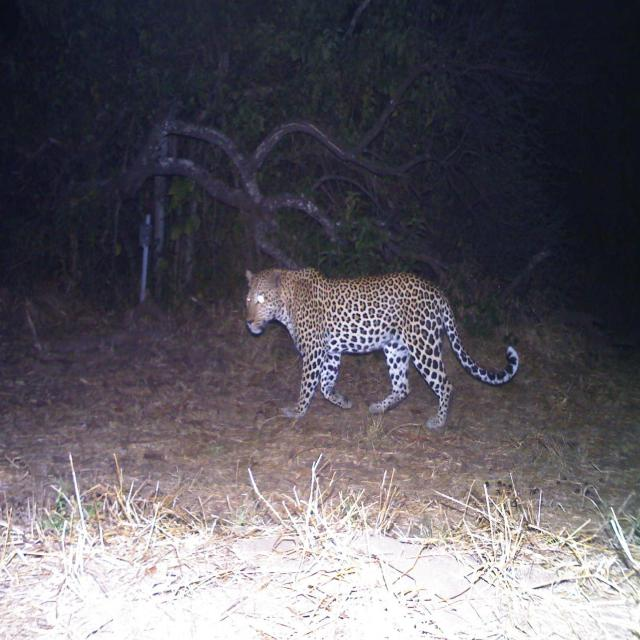Leopard: (250, 263, 527, 432)
